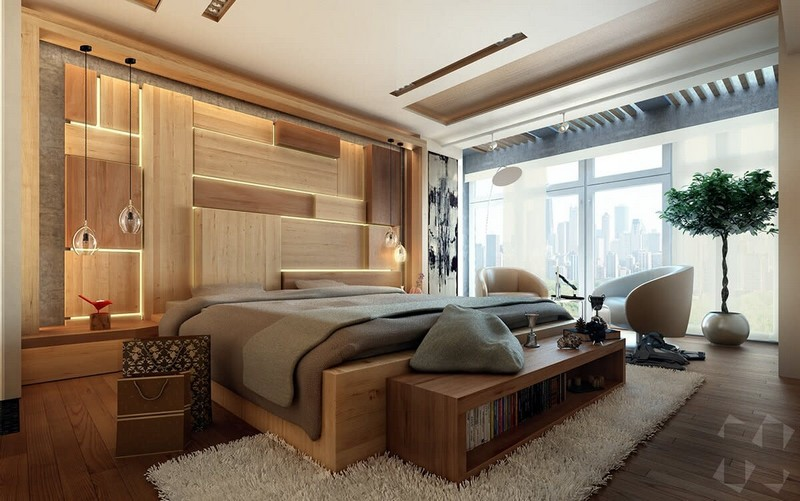bed: (161, 267, 565, 465)
chair: (586, 257, 696, 360)
lamp: (110, 196, 152, 249), (65, 211, 106, 262), (379, 225, 412, 269)
sofa: (474, 262, 553, 309)
